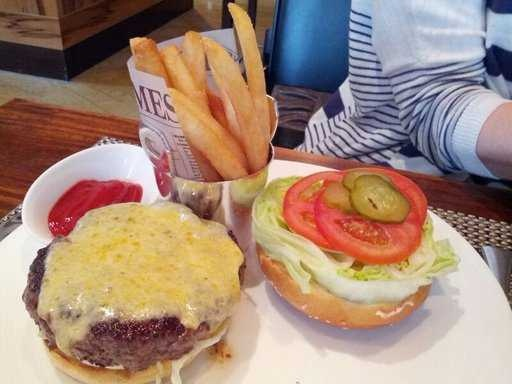hamburger: (260, 162, 434, 331)
